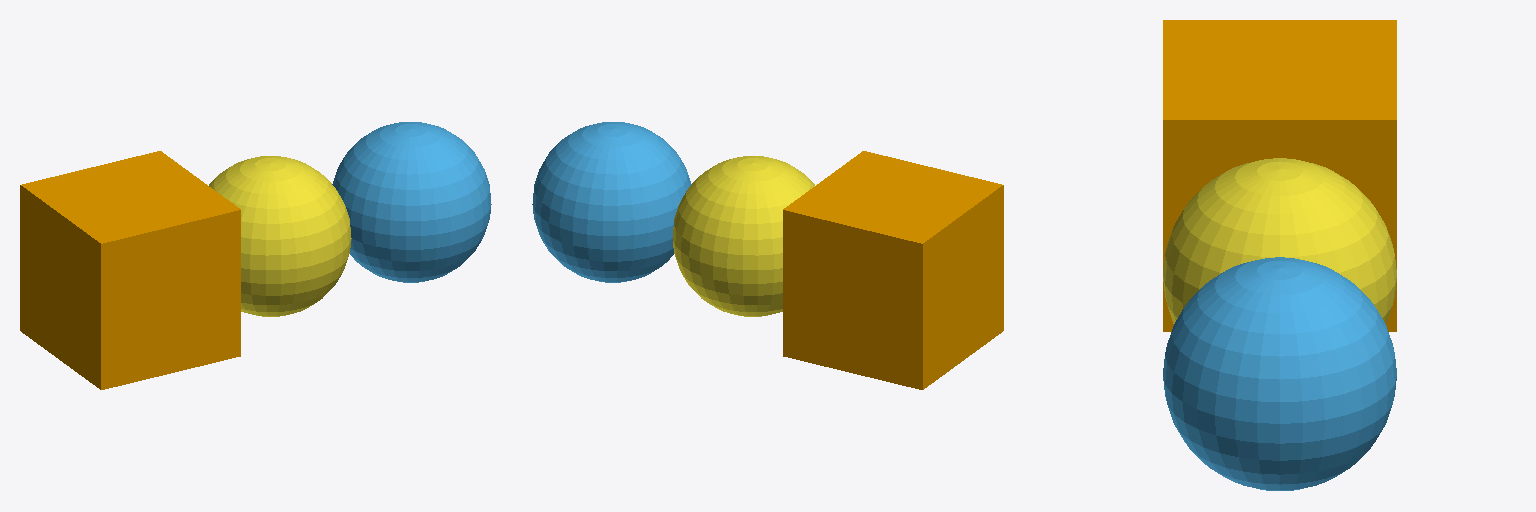
The robot description file, URDF, robot "error_incorrect_mimic_joint_fixed":
<robot name="error_incorrect_mimic_joint_fixed">
  <link name="BaseLink">
    <visual>
      <origin rpy="0 0 0" xyz="-2 0 0.5"/>
      <geometry>
        <box size="1 1 1"/>
      </geometry>
    </visual>
  </link>

  <link name="link2">
    <visual>
      <origin rpy="0 0 0" xyz="0 0 0.5"/>
      <geometry>
        <sphere radius="0.5"/>
      </geometry>
    </visual>
  </link>
  <link name="link3">
    <visual>
      <origin rpy="0 0 0" xyz="0 0 0.5"/>
      <geometry>
        <sphere radius="0.5"/>
      </geometry>
    </visual>
  </link>
  <link name="link4">
    <visual>
      <origin rpy="0 0 0" xyz="-1 0 0.5"/>
      <geometry>
        <sphere radius="0.5"/>
      </geometry>
    </visual>
  </link>

  <joint name="JointA" type="fixed">
    <parent link="BaseLink"/>
    <child link="link2" />
  </joint>
  <joint name="JointB" type="fixed">
    <parent link="BaseLink"/>
    <child link="link4" />
  </joint>

  <joint name="JointC" type="fixed">
    <parent link="link2"/>
    <child link="link3" />

    <!-- This is a deliberate mistake.  -->
    <!-- When referring to a fixed joint. -->
    <mimic joint="JointB" multiplier="2.0" offset="1.0"/>
  </joint>
</robot>

--- What the picture shows (computed from the rendered views, not written in the file) ---
Views: 3 orthographic renders of the robot side by side, from view 1: azimuth 30°, elevation 25°; view 2: azimuth 150°, elevation 25°; view 3: azimuth 270°, elevation 25°.
Model error_incorrect_mimic_joint_fixed with 4 links and 3 joints (3 fixed), rooted at BaseLink, posed all joints at 0.
Visible links, largest first — view 1: BaseLink, link2, link4; view 2: BaseLink, link2, link4; view 3: link2, BaseLink, link4.
Boxes of the visible links, bbox=[...] form: BaseLink: bbox=[20, 151, 240, 389]; link2: bbox=[332, 122, 491, 282]; link4: bbox=[209, 156, 351, 316]; BaseLink: bbox=[783, 151, 1003, 389]; link2: bbox=[532, 122, 691, 282]; link4: bbox=[672, 156, 814, 316]; link2: bbox=[1163, 257, 1396, 490]; BaseLink: bbox=[1163, 20, 1396, 331]; link4: bbox=[1163, 158, 1396, 323].
Bounding box of the posed robot: 3 × 1 × 1 m (x, y, z).
Geometry: primitives only (box / cylinder / sphere), no mesh files.
